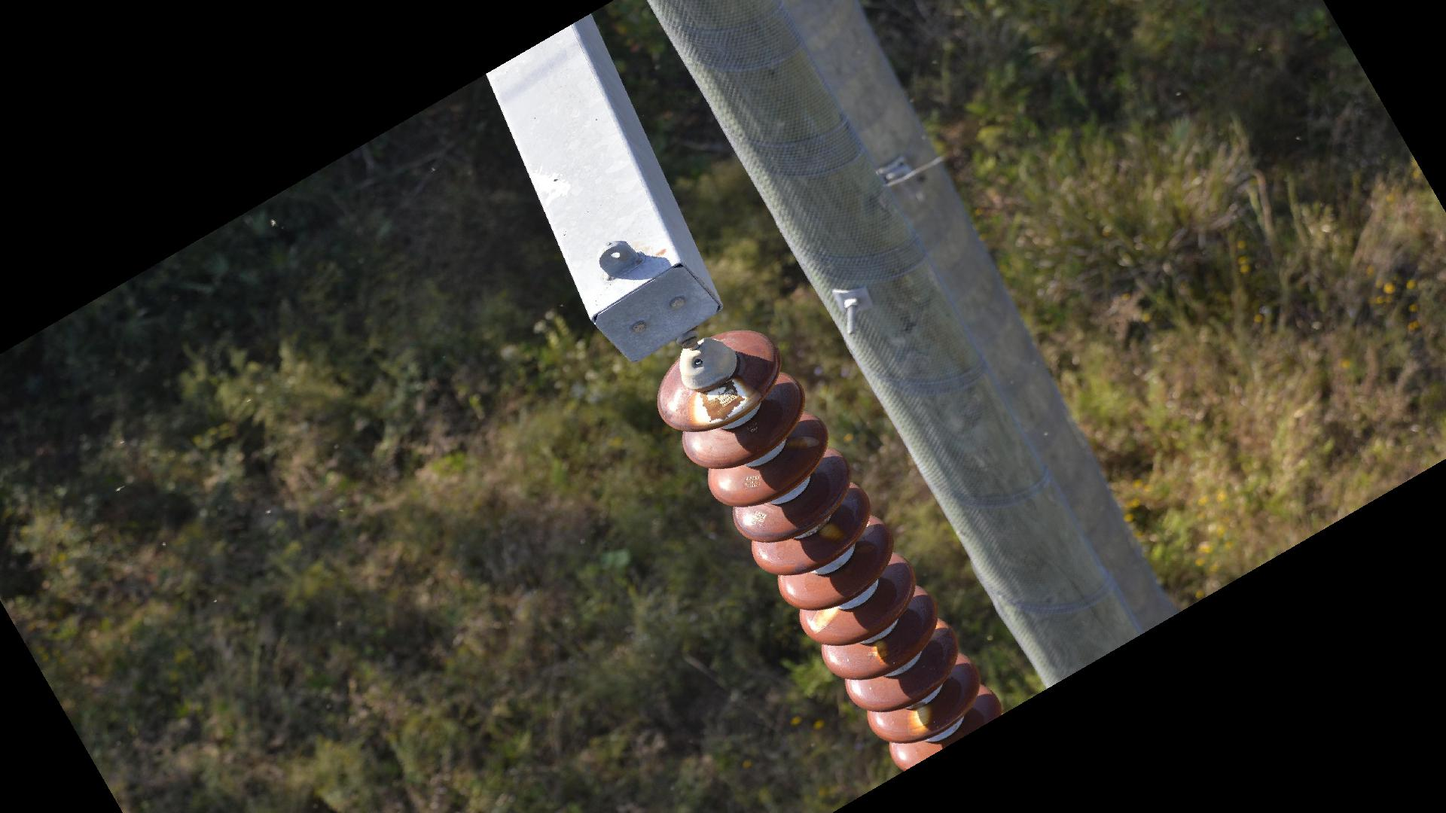insulator: (647, 324, 1008, 784)
insulator_flashover: (690, 374, 759, 428), (901, 702, 935, 738), (807, 602, 840, 635)
